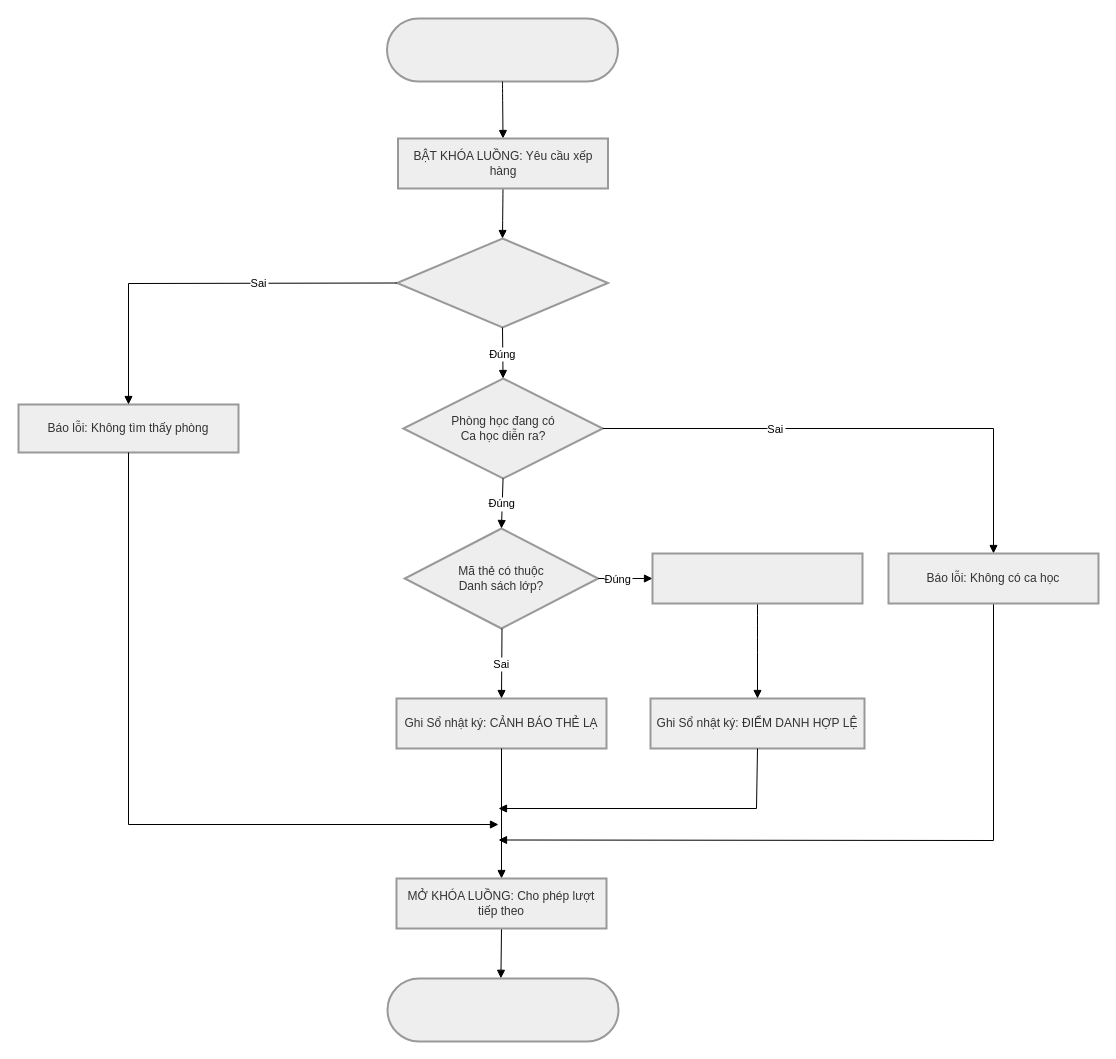
Image size: 1116x1059. Some labels were removed from this diagram. The shapes that lost their labels are listed below. From the top down, each one's centre as x and y in pixels, then its label:
At (x=502, y=49): "Tiếp nhận tín hiệu điểm danh".
At (x=502, y=282): "Thiết bị có thuộc Phòng học hợp lệ?".
At (x=757, y=578): "Cập nhật: Cộng dồn số buổi đi học".
At (x=502, y=1009): "Trả kết quả về Thiết bị & Kết thúc".
